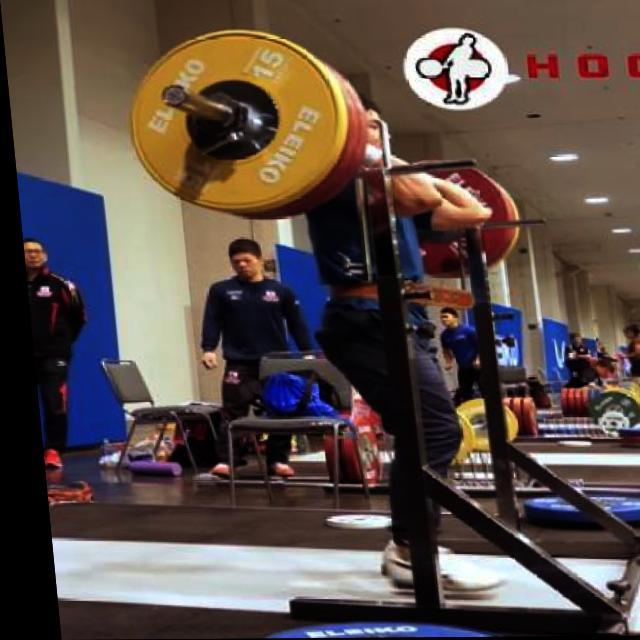barbell: (111, 24, 355, 222)
